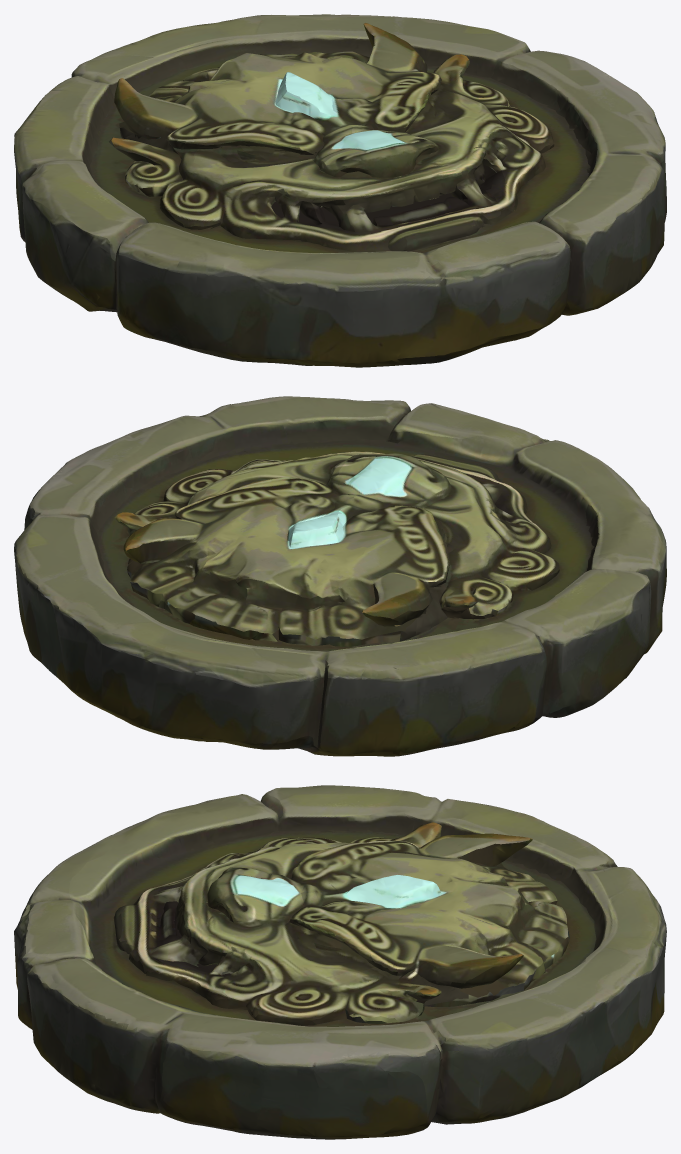
File: item_imprint_ancient_warden.glb
3 views of the same model, one above another, from view 1: azimuth 30°, elevation 25°; view 2: azimuth 150°, elevation 25°; view 3: azimuth 270°, elevation 25° (orthographic).
Parts seen in each view (by area): view 1: item_imprint_ancient_warden; view 2: item_imprint_ancient_warden; view 3: item_imprint_ancient_warden.
Part boxes in pixels (box(x1,y1,x2,y2)): item_imprint_ancient_warden: box(14, 14, 666, 367); item_imprint_ancient_warden: box(14, 396, 666, 756); item_imprint_ancient_warden: box(14, 785, 666, 1139).
Bounding box in the file's own units: 0.1 × 0.0221 × 0.0994.
Materials: 1 (1 with a texture image).
